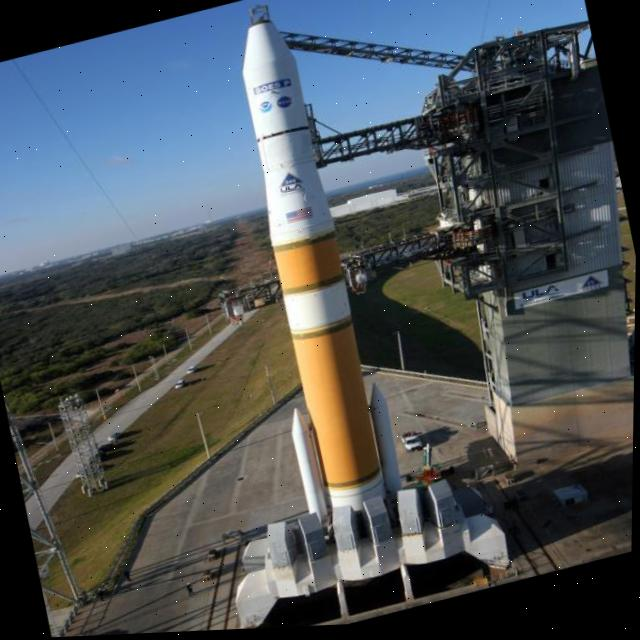missile: (201, 0, 414, 521)
